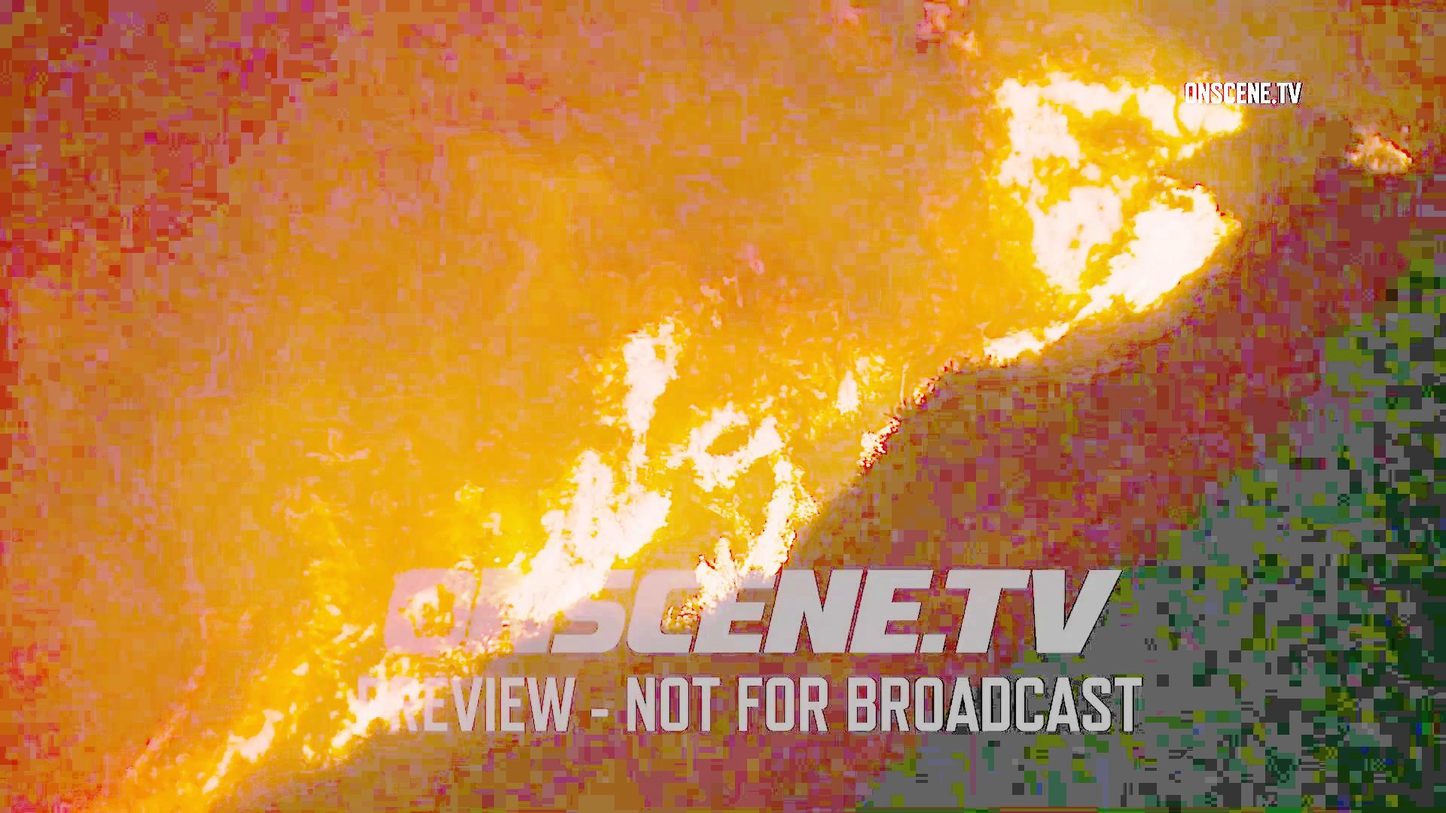fire: (155, 458, 444, 729), (954, 68, 1224, 301), (539, 303, 825, 520)
